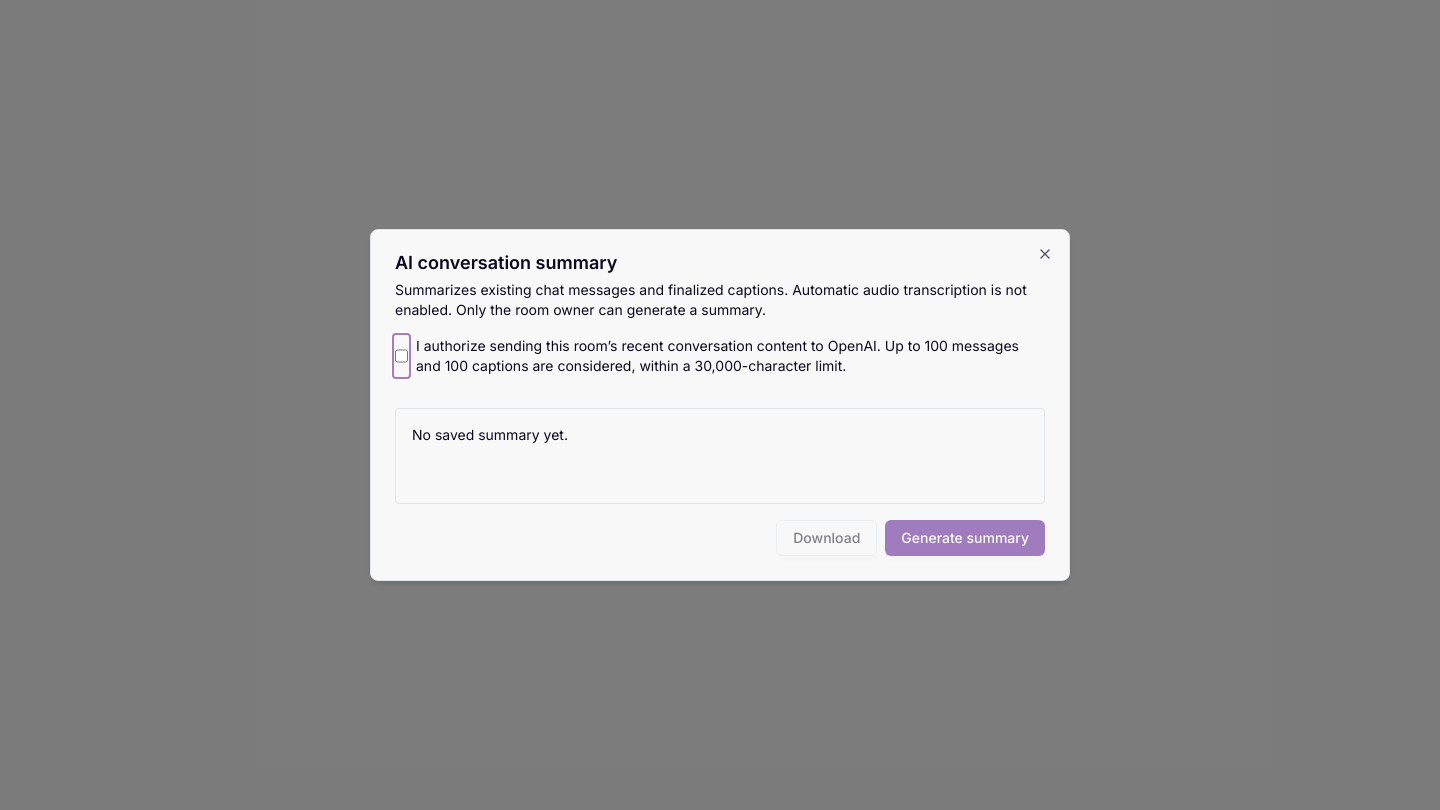
allows download only after the server confirms persistence
Click the checkbox. click: (402, 356)
box: [395,336,408,376]
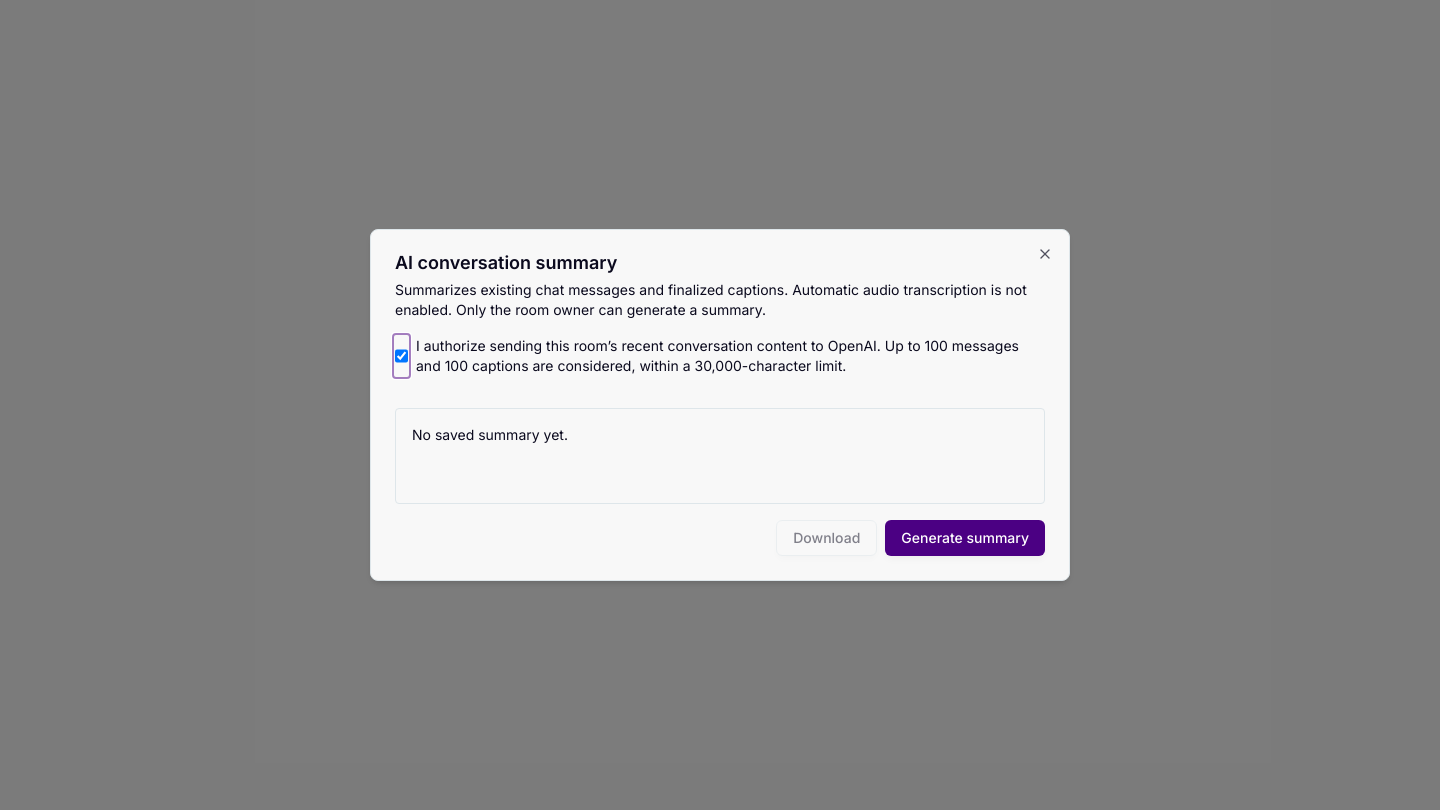
Click the button "Generate summary". click: (965, 538)
box: [885,520,1045,556]
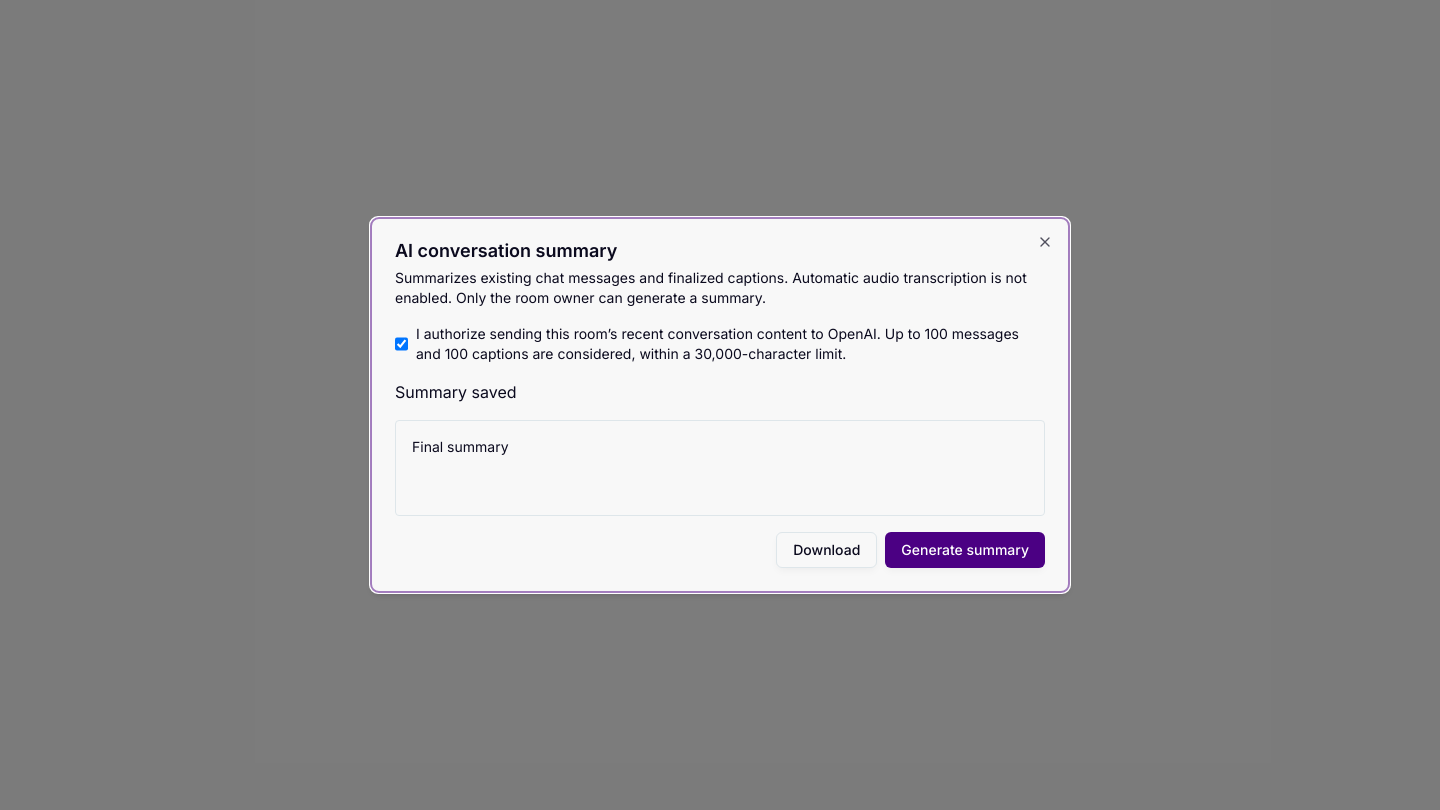
Expected: the text "Summary saved" is shown, [395,382,516,402]
Expected: the text "Final summary" is shown, [395,420,1045,516]
Expected: the button "Download" is enabled, [776,532,877,568]
